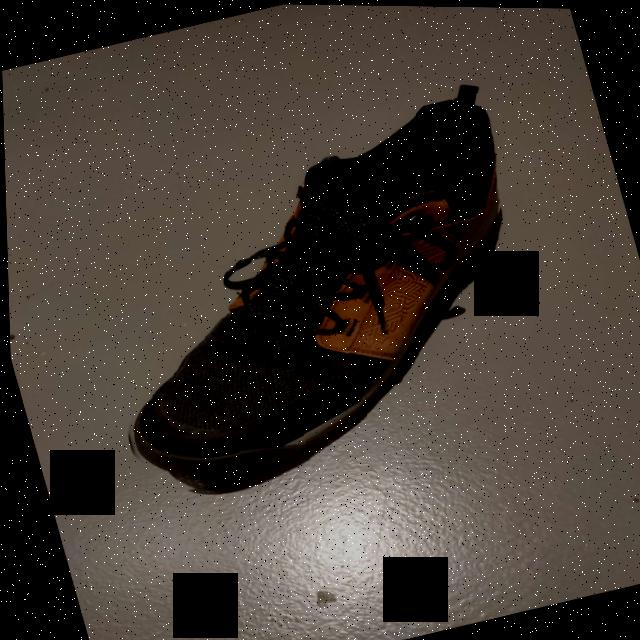shoe: (52, 85, 571, 507)
